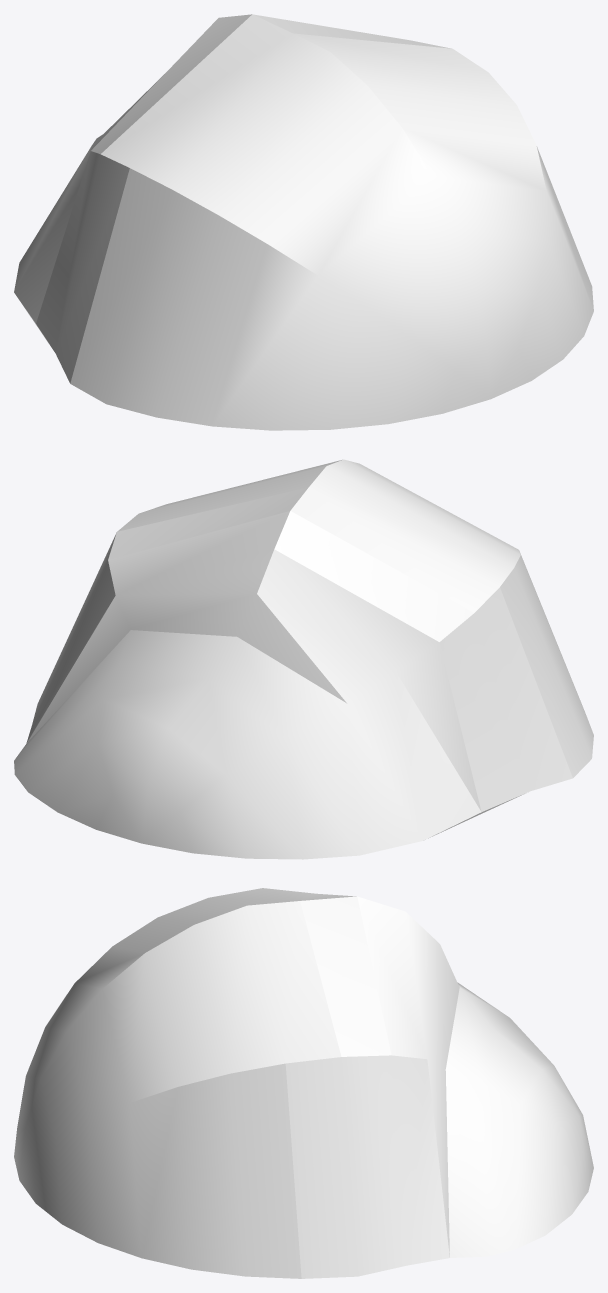
The model's file is Foot_L.obj.
3 views of the same model, one above another, from view 1: azimuth 30°, elevation 25°; view 2: azimuth 150°, elevation 25°; view 3: azimuth 270°, elevation 25° (orthographic). The views are drawn at different scales.
Parts seen in each view (by area): view 1: P_Foot_L; view 2: P_Foot_L; view 3: P_Foot_L.
Part boxes in pixels (x1,y1,x2,y2): P_Foot_L: [14, 14, 593, 430]; P_Foot_L: [14, 459, 593, 859]; P_Foot_L: [14, 888, 593, 1278].
Size of the model in its own units: 0.7168 by 0.3601 by 0.738.
1 material, 1 textured.
